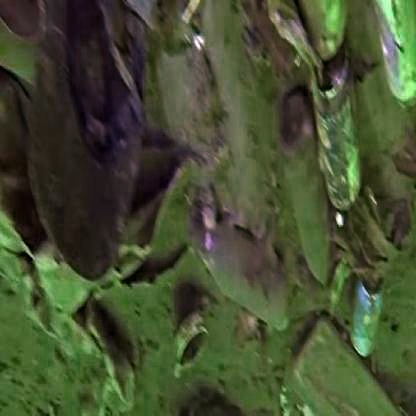can: (322, 47, 370, 201), (375, 1, 413, 109), (347, 252, 380, 363)
gbottle: (202, 201, 308, 394), (272, 113, 353, 302)
